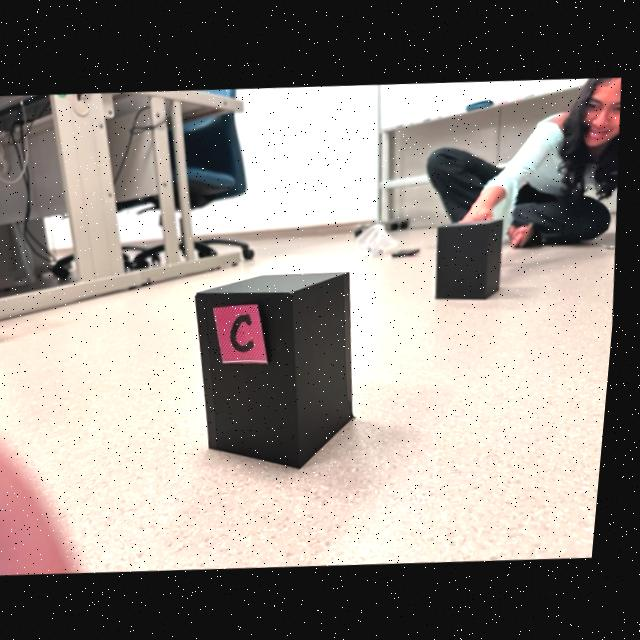C: (237, 312, 261, 350)
